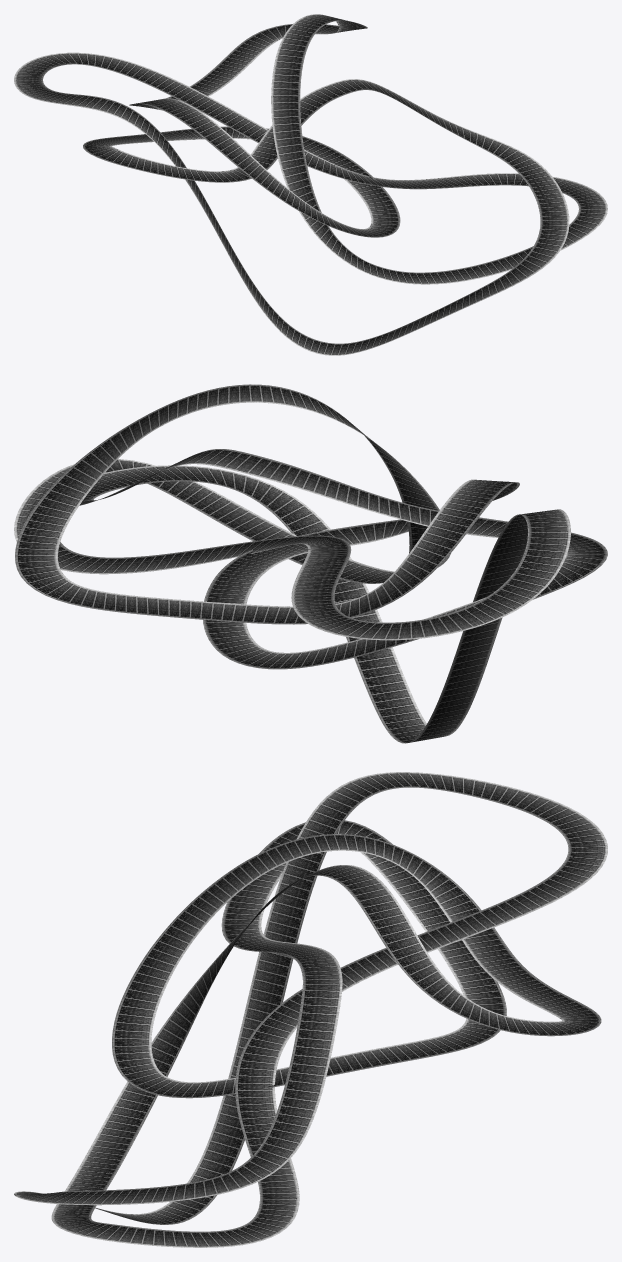
The model's file is Route64Sqrares.obj.
3 views of the same model, one above another, from view 1: azimuth 30°, elevation 25°; view 2: azimuth 150°, elevation 25°; view 3: azimuth 270°, elevation 25° (orthographic). The views are drawn at different scales.
Visible parts, largest first — view 1: block4; view 2: block4; view 3: block4.
Part boxes in pixels (bbox=[...]): block4: bbox=[14, 14, 607, 355]; block4: bbox=[14, 384, 607, 743]; block4: bbox=[14, 772, 607, 1247].
Size of the model in its own units: 288 by 162 by 239.
1 material, 1 textured.
